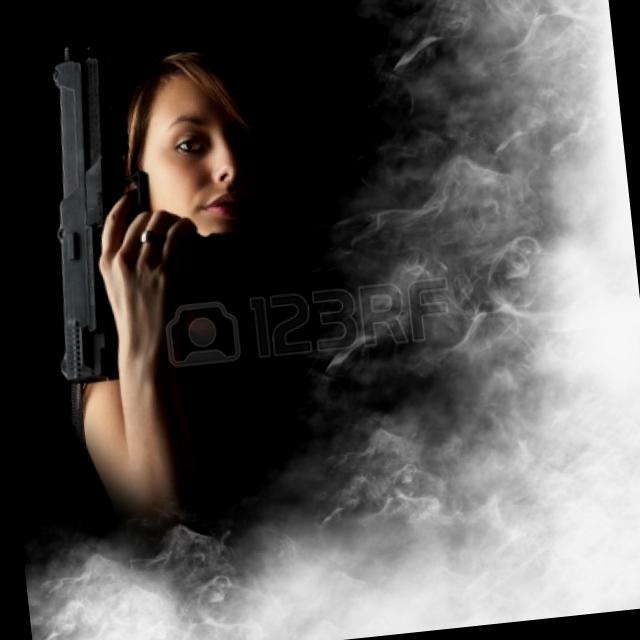handgun: (22, 26, 225, 388)
